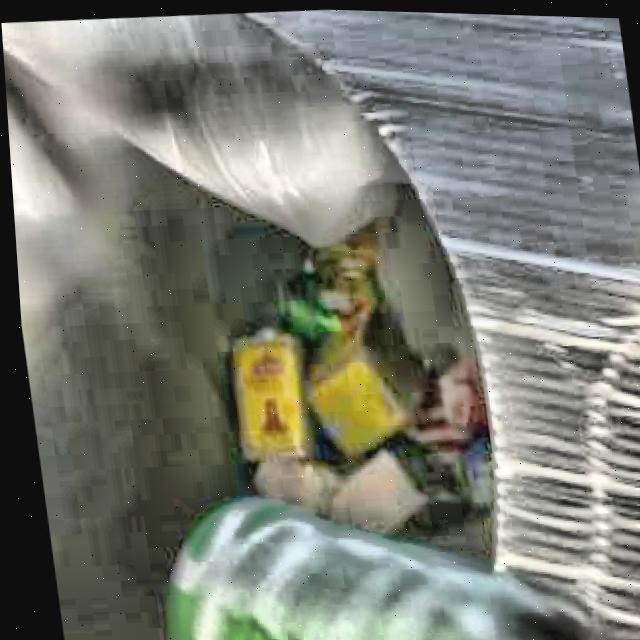metal: (163, 498, 580, 640)
